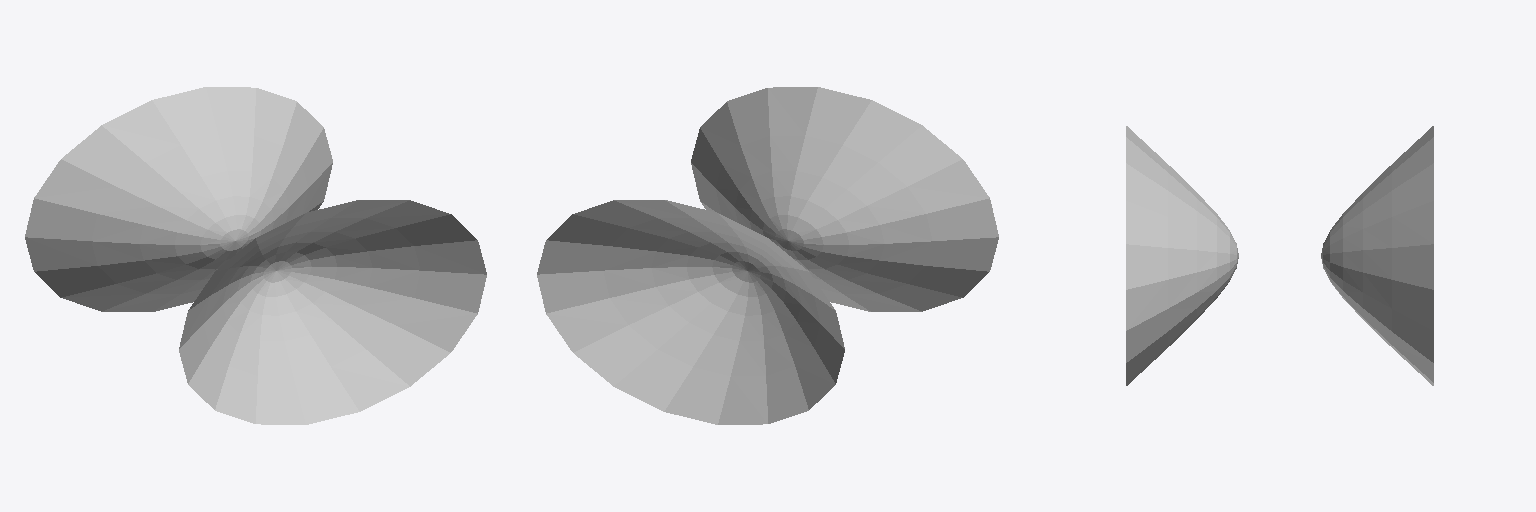
The model's file is hyperbo2.obj.
3 views of the same model, side by side, from view 1: azimuth 30°, elevation 25°; view 2: azimuth 150°, elevation 25°; view 3: azimuth 270°, elevation 25° (orthographic).
Visible parts, largest first — view 1: hyperbo2_hyperbo2.004, hyperbo2.001_hyperbo2.005; view 2: hyperbo2_hyperbo2.004, hyperbo2.001_hyperbo2.005; view 3: hyperbo2_hyperbo2.004, hyperbo2.001_hyperbo2.005.
Boxes of the visible parts, x1=… form: hyperbo2_hyperbo2.004: x1=25, y1=87, x2=486, y2=424; hyperbo2.001_hyperbo2.005: x1=25, y1=87, x2=485, y2=424; hyperbo2_hyperbo2.004: x1=537, y1=87, x2=998, y2=424; hyperbo2.001_hyperbo2.005: x1=537, y1=87, x2=998, y2=424; hyperbo2_hyperbo2.004: x1=1126, y1=126, x2=1433, y2=385; hyperbo2.001_hyperbo2.005: x1=1126, y1=126, x2=1433, y2=385.
Bounding box in the file's own units: 8.7 × 5.72 × 7.52.